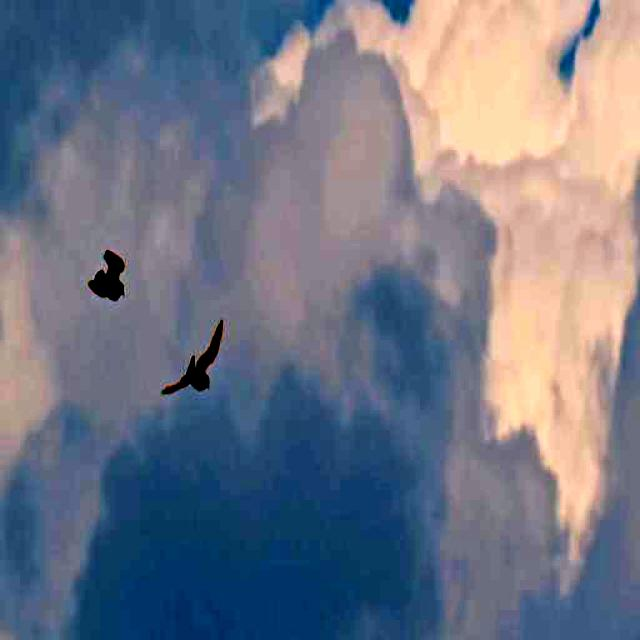airplane: (164, 305, 234, 420), (81, 234, 139, 311)
